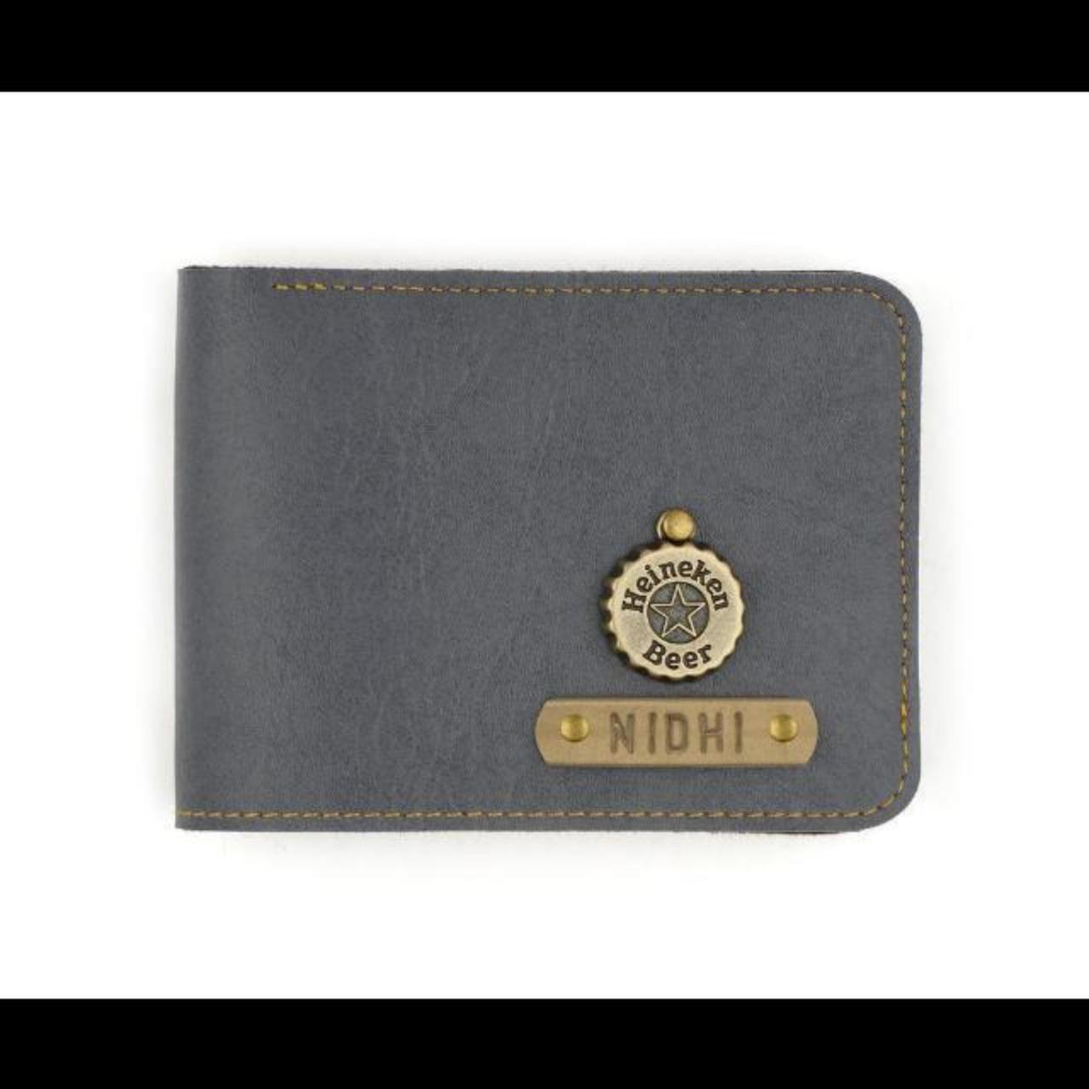wallet: (140, 240, 965, 883)
